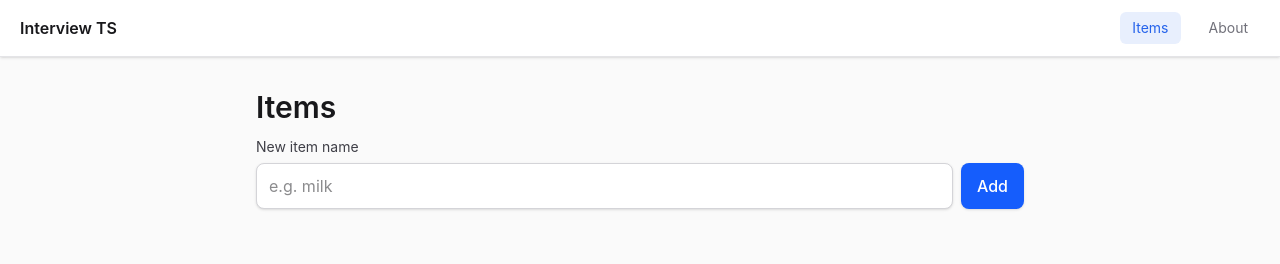
Test: <App /> › can create an item
Type "eggs" into the field labelled "New item name" at (604, 186), box [256,163,953,209]
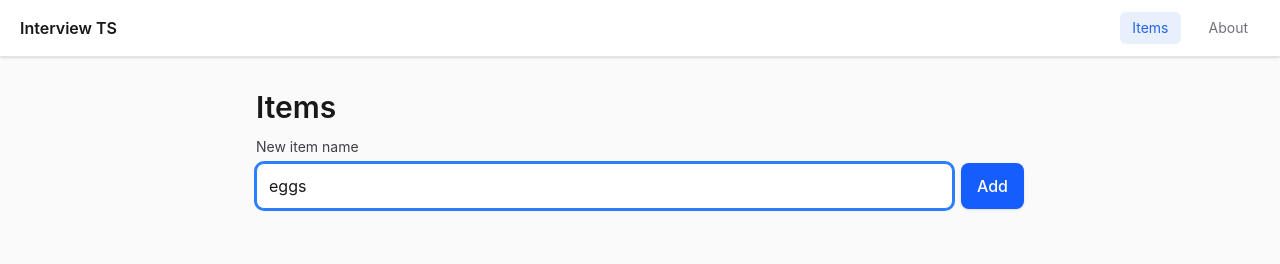
Click the button "Add" at (992, 186), box [961,163,1024,209]
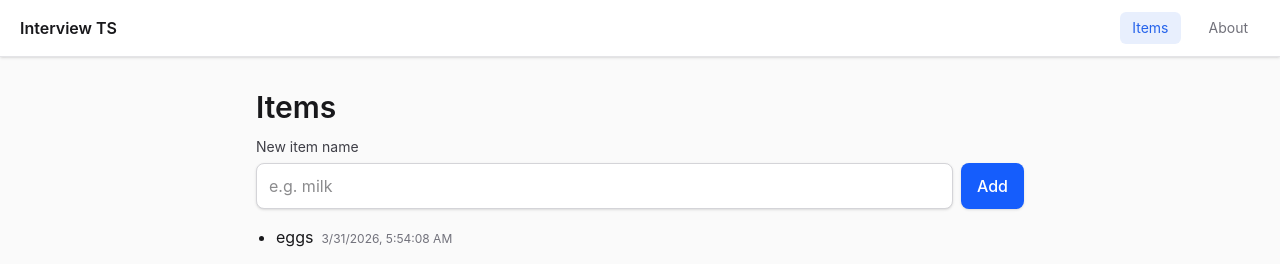
Result: the text "eggs" is shown at [276,227,313,247]
